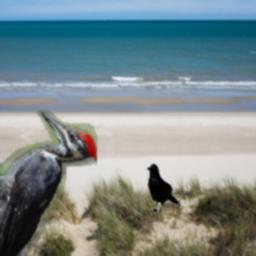Crow: (146, 164, 182, 213)
Woodpecker: (0, 110, 98, 256)
